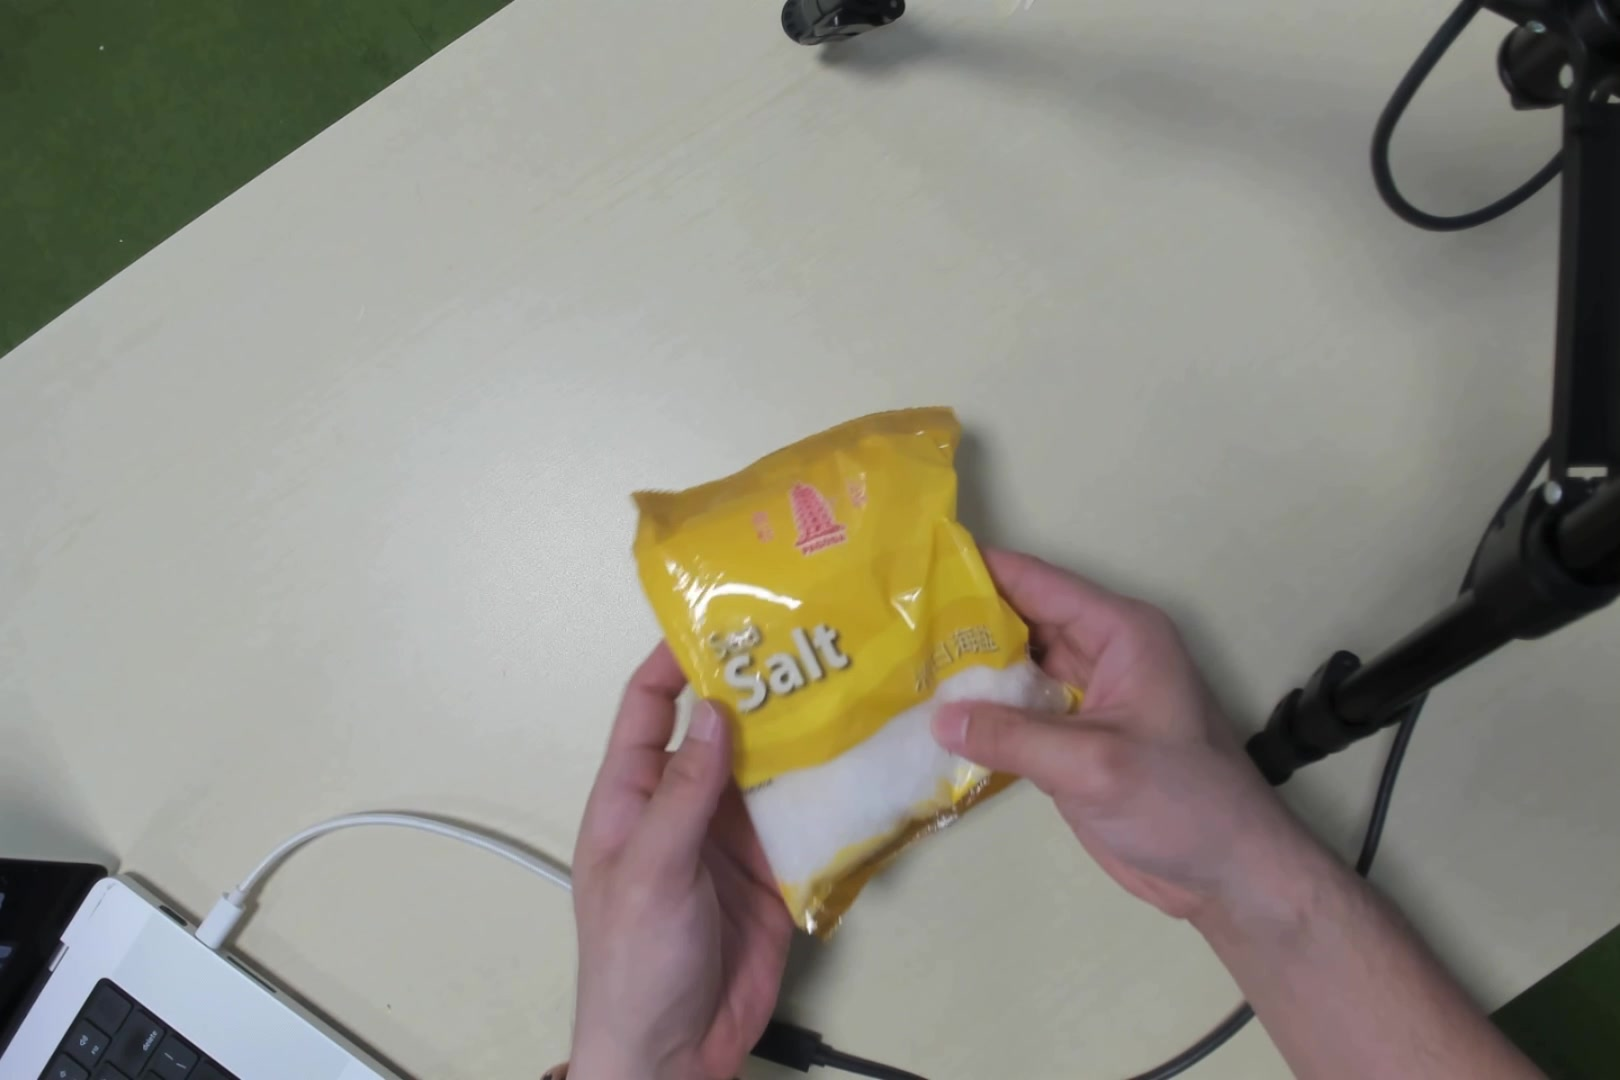Salt_500-599g_Halal_NonHealthy: (674, 422, 1058, 892)
